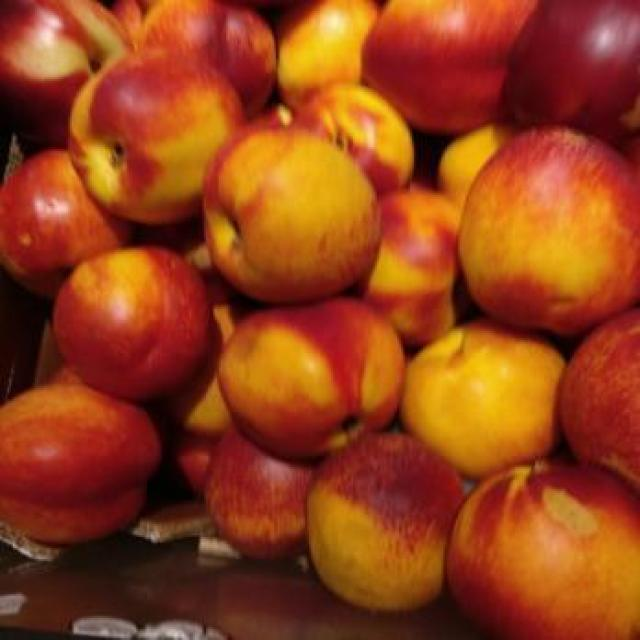Nectarine: (460, 127, 638, 331), (447, 467, 639, 638), (217, 302, 407, 464), (206, 129, 382, 302), (70, 54, 244, 225), (306, 432, 464, 614), (0, 381, 162, 545), (405, 314, 571, 470), (358, 0, 535, 132), (55, 248, 209, 399), (4, 149, 136, 298), (502, 2, 638, 125)
